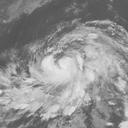cyclone: (15, 20, 121, 112)
